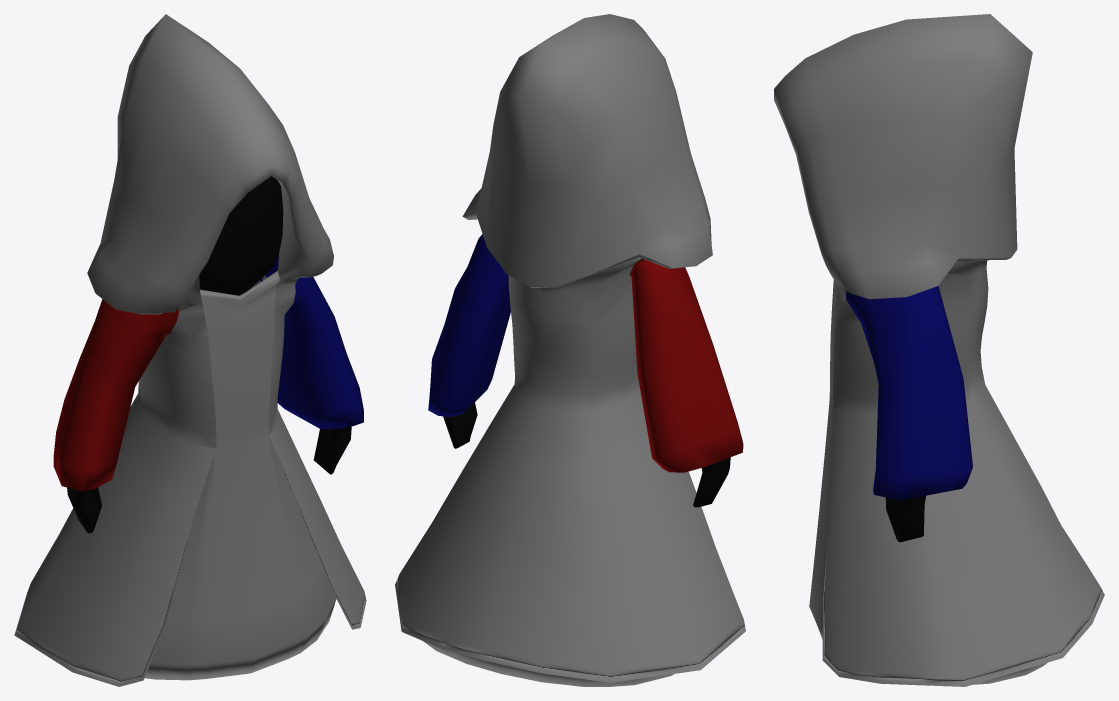
The model's file is LowPoly_Gloves.fbx.
The picture shows the model from 3 angles, left to right: view 1: azimuth 30°, elevation 25°; view 2: azimuth 150°, elevation 25°; view 3: azimuth 270°, elevation 25°; orthographic projection. The views are drawn at different scales.
Parts seen in each view (by area): view 1: LowPoly_Mage_Robe, LowPoly_Head; view 2: LowPoly_Mage_Robe; view 3: LowPoly_Mage_Robe.
Part boxes in pixels (box(x1,y1,x2,y2)): LowPoly_Mage_Robe: box(14, 14, 366, 686); LowPoly_Head: box(199, 176, 283, 295); LowPoly_Mage_Robe: box(395, 14, 745, 686); LowPoly_Mage_Robe: box(774, 14, 1104, 686).
Bounding box in the file's own units: 920 × 1705 × 828.
